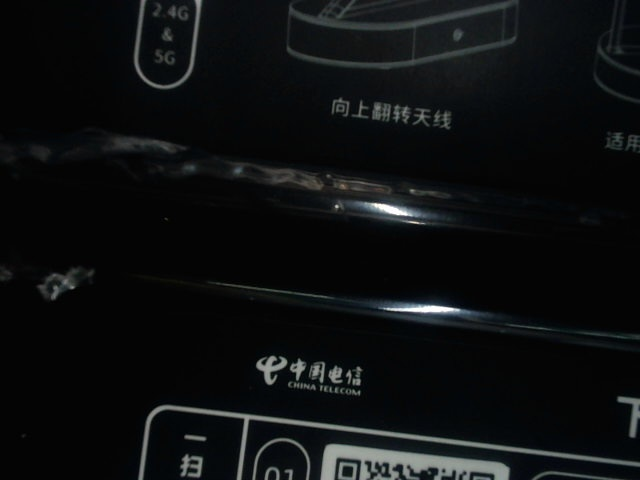AB_ChinaTelecom: (246, 341, 367, 398)
